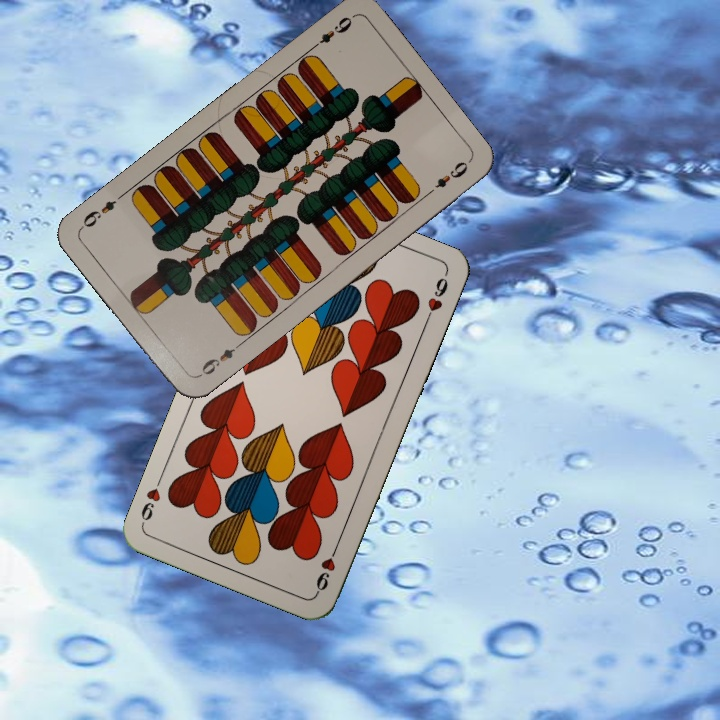E9: (193, 339, 244, 381), (306, 12, 355, 53)
H9: (311, 540, 342, 596)
